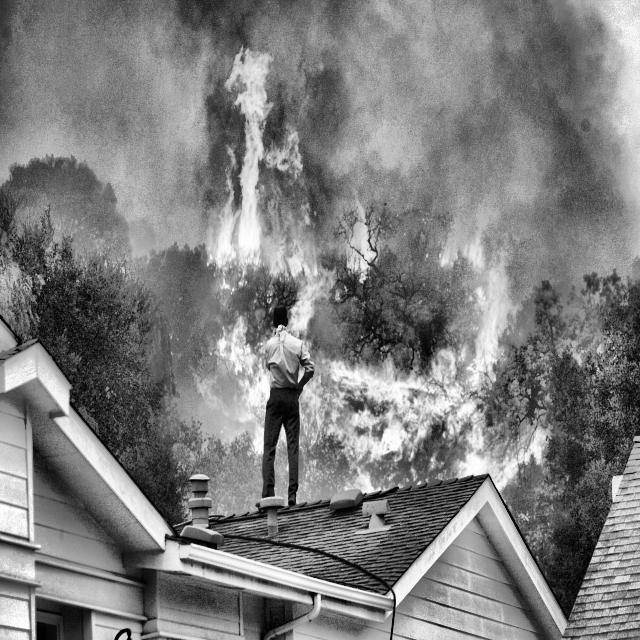fire: (197, 41, 556, 555)
